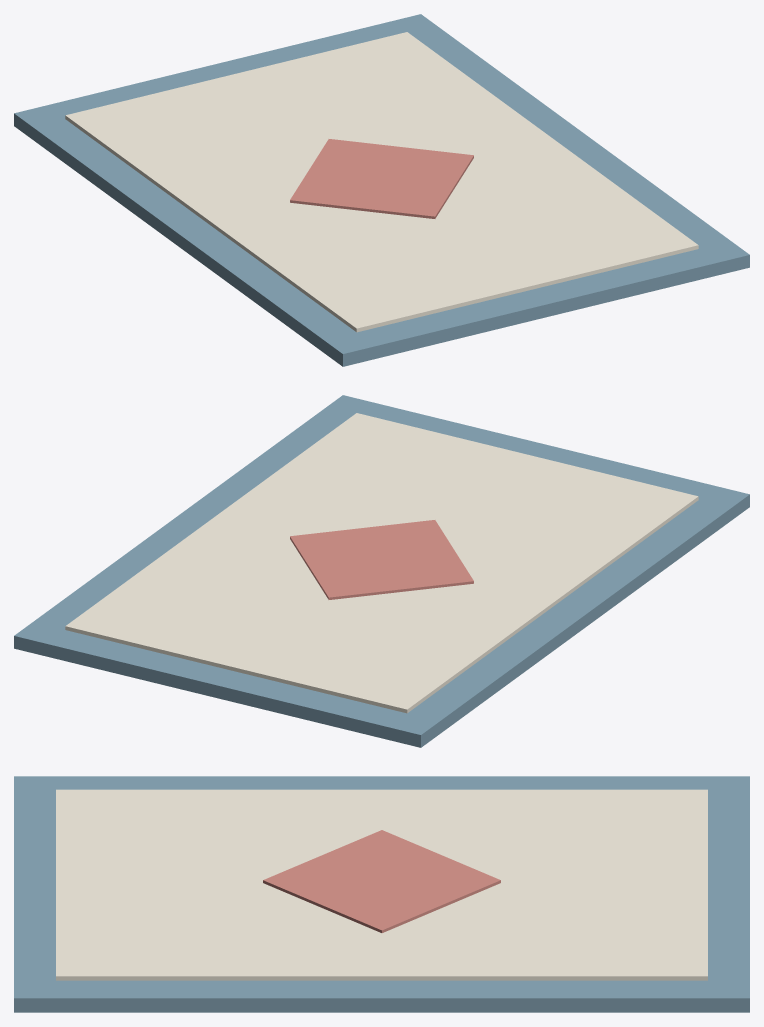
Rendered from rug_market.glb.
3 views of the same model, one above another, from view 1: azimuth 30°, elevation 25°; view 2: azimuth 150°, elevation 25°; view 3: azimuth 270°, elevation 25° (orthographic). The views are drawn at different scales.
Visible parts, largest first — view 1: rug_market; view 2: rug_market; view 3: rug_market.
Part boxes in pixels (box(x1,y1,x2,y2)): rug_market: box(14, 14, 749, 366); rug_market: box(14, 395, 749, 747); rug_market: box(14, 776, 749, 1012).
Size of the model in its own units: 0.5 by 0.0225 by 0.7.
